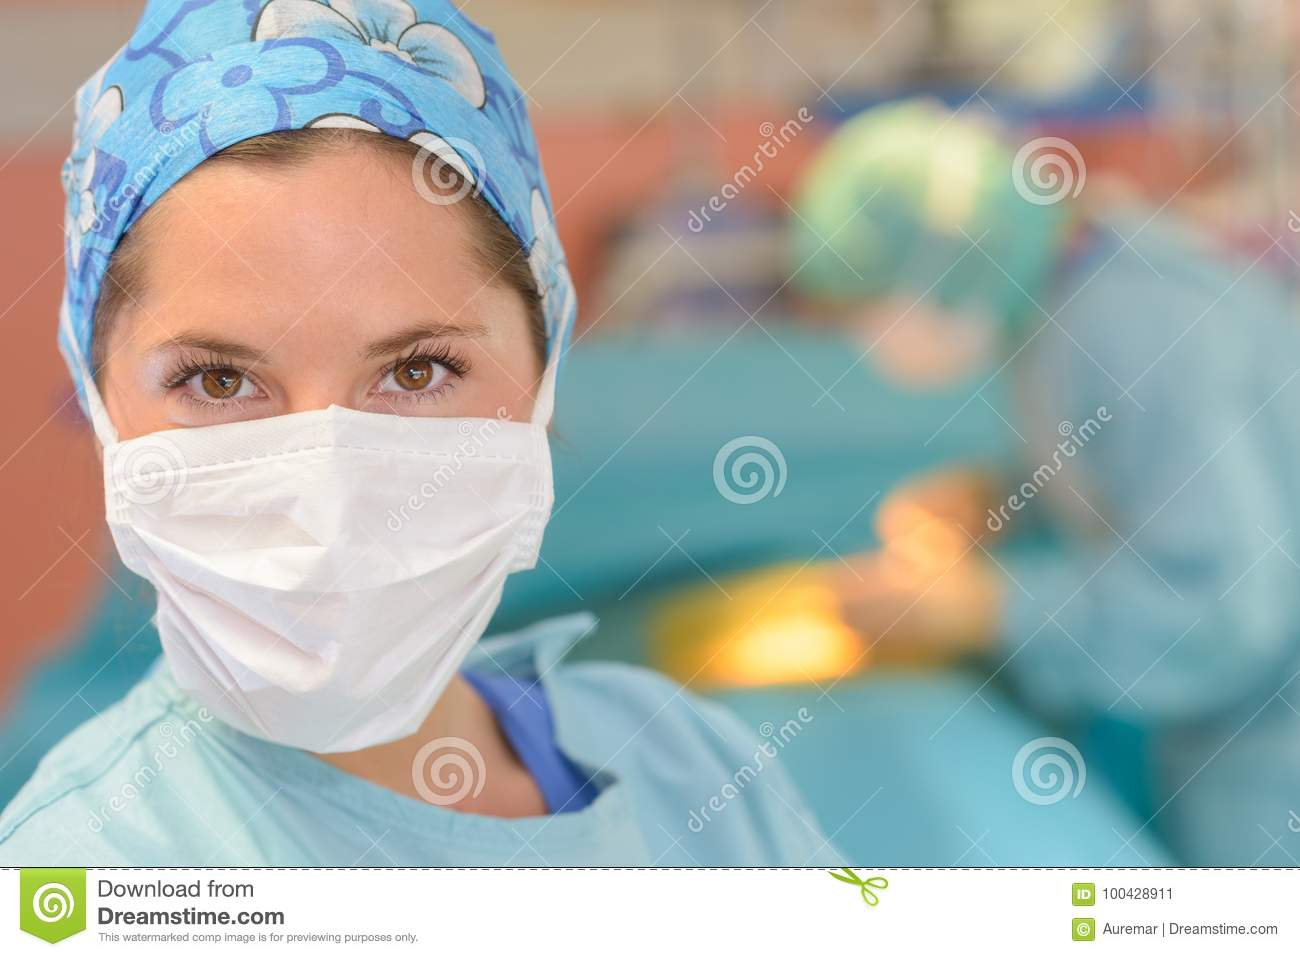mask: (103, 417, 564, 757)
